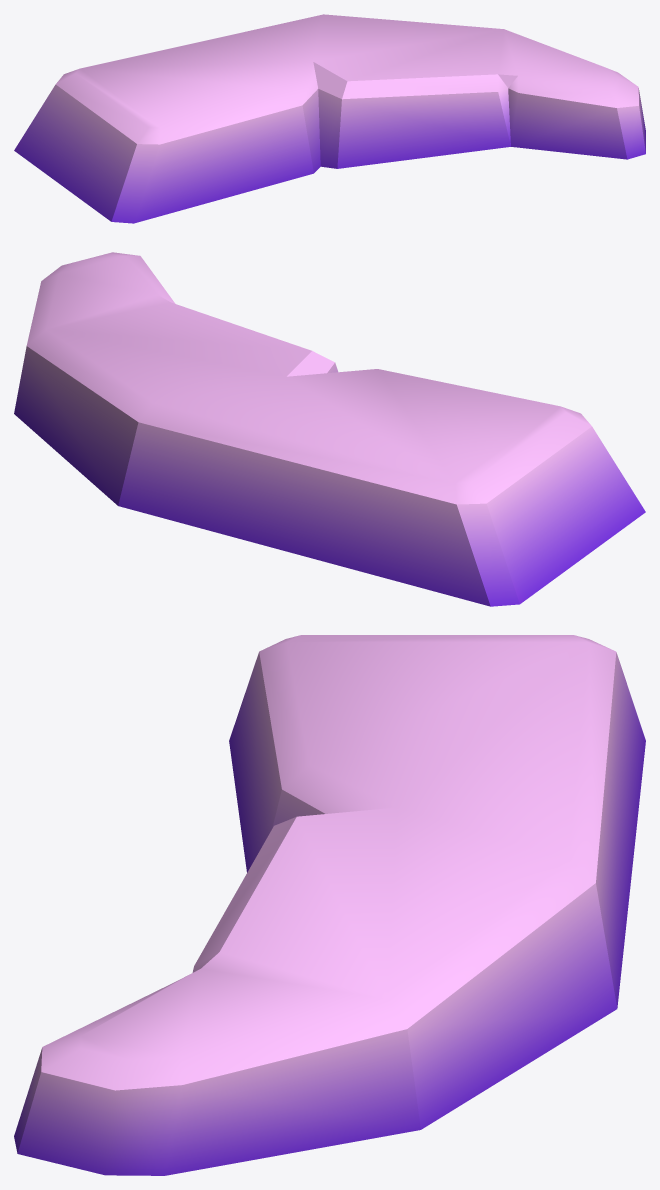
The model's file is Sand_Mars.fbx.
The picture shows the model from 3 angles, top to bottom: view 1: azimuth 30°, elevation 25°; view 2: azimuth 150°, elevation 25°; view 3: azimuth 270°, elevation 25°; orthographic projection. The views are drawn at different scales.
Visible parts, largest first — view 1: Sand; view 2: Sand; view 3: Sand.
Part boxes in pixels (left/top/right/bottom): Sand: left=14, top=14, right=645, bottom=223; Sand: left=14, top=252, right=645, bottom=606; Sand: left=14, top=635, right=645, bottom=1175.
Size of the model in its own units: 285 by 40.84 by 170.
1 material, 1 textured.
